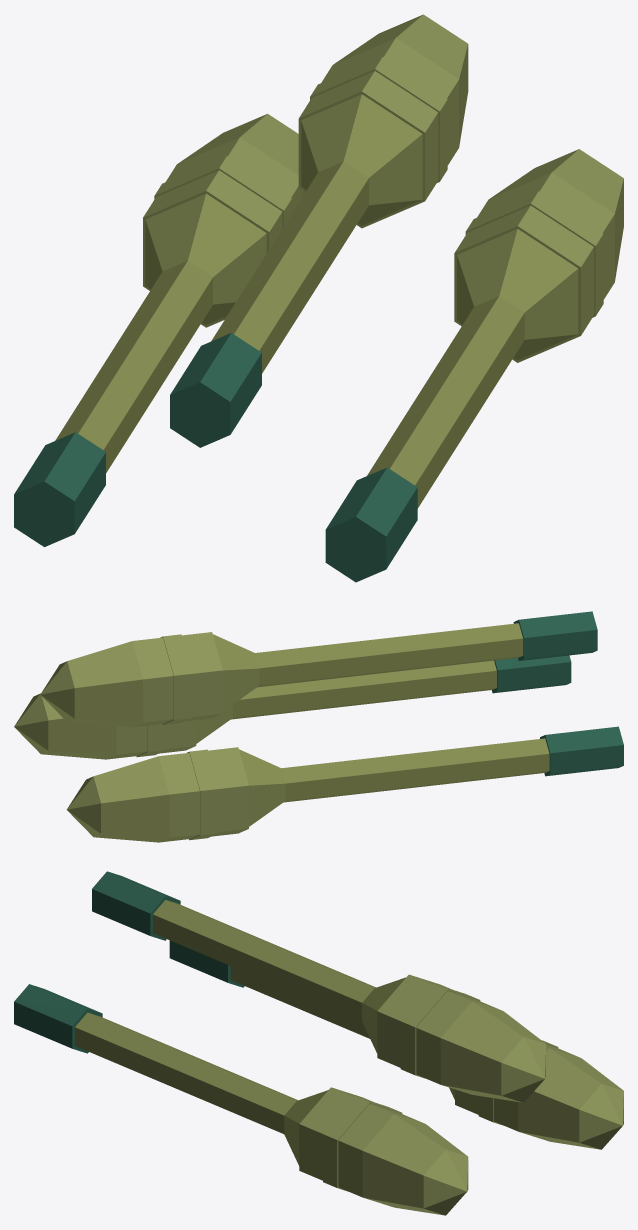
File: ce_ammo2_rpg_frag_b.obj
The picture shows the model from 3 angles, top to bottom: view 1: azimuth 30°, elevation 25°; view 2: azimuth 150°, elevation 25°; view 3: azimuth 270°, elevation 25°; orthographic projection. The views are drawn at different scales.
Visible parts, largest first — view 1: ce_ammo2_rpg_frag_b_9, ce_ammo2_rpg_frag_b_17, ce_ammo2_rpg_frag_b_1, ce_ammo2_rpg_frag_b_10, ce_ammo2_rpg_frag_b_18, ce_ammo2_rpg_frag_b_2, ce_ammo2_rpg_frag_b_8, ce_ammo2_rpg_frag_b_0, ce_ammo2_rpg_frag_b_16, ce_ammo2_rpg_frag_b_19, ce_ammo2_rpg_frag_b_11, ce_ammo2_rpg_frag_b_3 (+9 smaller); view 2: ce_ammo2_rpg_frag_b_1, ce_ammo2_rpg_frag_b_17, ce_ammo2_rpg_frag_b_9, ce_ammo2_rpg_frag_b_6, ce_ammo2_rpg_frag_b_22, ce_ammo2_rpg_frag_b_16, ce_ammo2_rpg_frag_b_0, ce_ammo2_rpg_frag_b_21, ce_ammo2_rpg_frag_b_5, ce_ammo2_rpg_frag_b_19, ce_ammo2_rpg_frag_b_3, ce_ammo2_rpg_frag_b_14 (+12 smaller); view 3: ce_ammo2_rpg_frag_b_9, ce_ammo2_rpg_frag_b_17, ce_ammo2_rpg_frag_b_14, ce_ammo2_rpg_frag_b_22, ce_ammo2_rpg_frag_b_6, ce_ammo2_rpg_frag_b_8, ce_ammo2_rpg_frag_b_16, ce_ammo2_rpg_frag_b_13, ce_ammo2_rpg_frag_b_21, ce_ammo2_rpg_frag_b_11, ce_ammo2_rpg_frag_b_19, ce_ammo2_rpg_frag_b_15 (+9 smaller).
Boxes of the visible parts, x1,y1,x2,y2 form: ce_ammo2_rpg_frag_b_9: (367, 296, 524, 508); ce_ammo2_rpg_frag_b_17: (211, 161, 368, 373); ce_ammo2_rpg_frag_b_1: (55, 261, 212, 472); ce_ammo2_rpg_frag_b_10: (457, 229, 578, 360); ce_ammo2_rpg_frag_b_18: (301, 94, 422, 225); ce_ammo2_rpg_frag_b_2: (145, 193, 266, 324); ce_ammo2_rpg_frag_b_8: (325, 467, 417, 582); ce_ammo2_rpg_frag_b_0: (14, 432, 105, 546); ce_ammo2_rpg_frag_b_16: (170, 333, 261, 447); ce_ammo2_rpg_frag_b_19: (298, 71, 438, 228); ce_ammo2_rpg_frag_b_11: (454, 205, 593, 362); ce_ammo2_rpg_frag_b_3: (143, 170, 282, 327); ce_ammo2_rpg_frag_b_1: (281, 738, 549, 802); ce_ammo2_rpg_frag_b_17: (255, 623, 523, 687); ce_ammo2_rpg_frag_b_9: (231, 660, 496, 719); ce_ammo2_rpg_frag_b_6: (93, 756, 169, 842); ce_ammo2_rpg_frag_b_22: (67, 641, 142, 727); ce_ammo2_rpg_frag_b_16: (513, 611, 597, 660); ce_ammo2_rpg_frag_b_0: (540, 726, 623, 776); ce_ammo2_rpg_frag_b_21: (132, 637, 173, 727); ce_ammo2_rpg_frag_b_5: (158, 753, 199, 842); ce_ammo2_rpg_frag_b_19: (181, 632, 222, 721); ce_ammo2_rpg_frag_b_3: (208, 747, 248, 836); ce_ammo2_rpg_frag_b_14: (41, 697, 116, 759); ce_ammo2_rpg_frag_b_9: (75, 1012, 297, 1133); ce_ammo2_rpg_frag_b_17: (153, 899, 375, 1021); ce_ammo2_rpg_frag_b_14: (362, 1114, 467, 1215); ce_ammo2_rpg_frag_b_22: (440, 1001, 545, 1102); ce_ammo2_rpg_frag_b_6: (518, 1048, 623, 1149); ce_ammo2_rpg_frag_b_8: (14, 984, 102, 1053); ce_ammo2_rpg_frag_b_16: (92, 871, 180, 940); ce_ammo2_rpg_frag_b_13: (338, 1104, 424, 1197); ce_ammo2_rpg_frag_b_21: (416, 991, 501, 1084); ce_ammo2_rpg_frag_b_11: (299, 1087, 372, 1180); ce_ammo2_rpg_frag_b_19: (377, 974, 450, 1067); ce_ammo2_rpg_frag_b_15: (423, 1149, 468, 1215).
Bounding box in the file's own units: 0.8861 × 0.282 × 0.8861.
